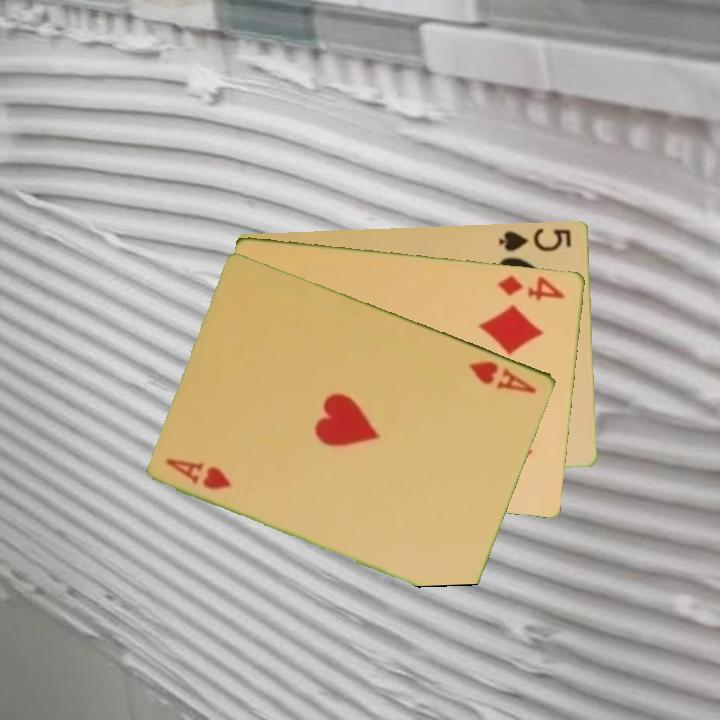4d: (495, 271, 568, 303)
5s: (495, 224, 575, 254)
Ah: (465, 357, 540, 396), (162, 454, 235, 492)
